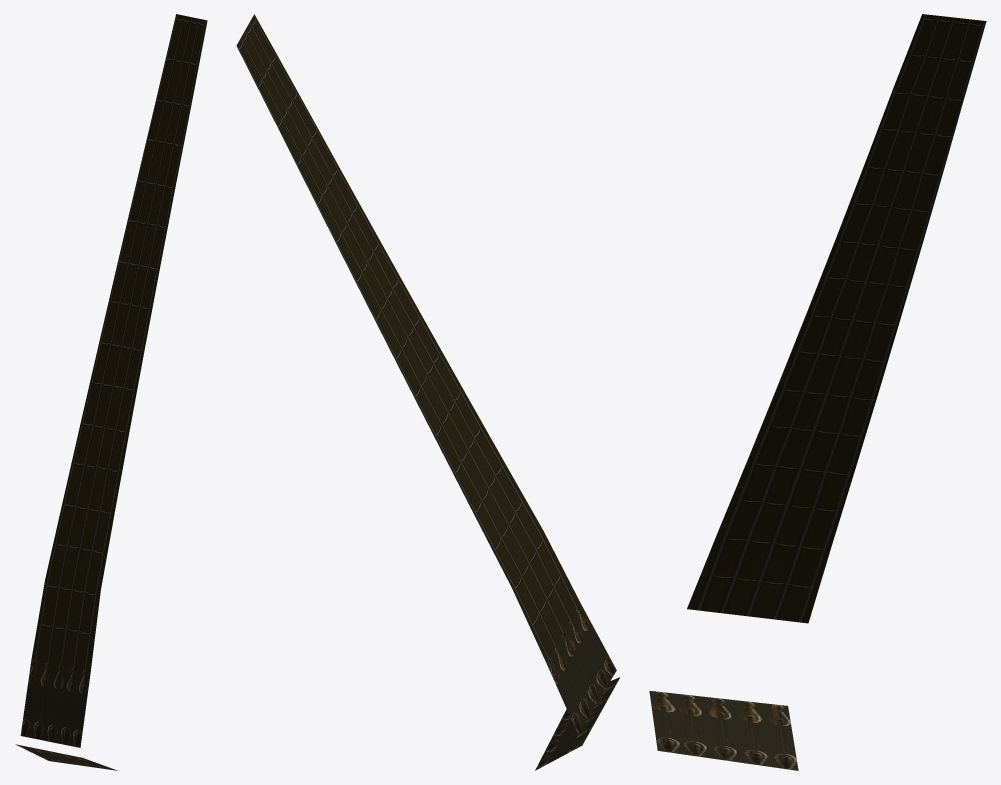
File: merchantL3-rigging_0.fbx
3 views of the same model, side by side, from view 1: azimuth 30°, elevation 25°; view 2: azimuth 150°, elevation 25°; view 3: azimuth 270°, elevation 25° (orthographic). The views are drawn at different scales.
Visible parts, largest first — view 1: rigging_2_A4, pullys_17, riggingmount_pulleys10; view 2: rigging_2_A4, pullys_17, riggingmount_pulleys10; view 3: rigging_2_A4, riggingmount_pulleys10.
Boxes of the visible parts, x1,y1,x2,y2 form: rigging_2_A4: (31, 14, 207, 671); pullys_17: (20, 660, 90, 747); riggingmount_pulleys10: (15, 744, 117, 770); rigging_2_A4: (236, 14, 580, 662); pullys_17: (546, 603, 616, 733); riggingmount_pulleys10: (535, 677, 620, 770); rigging_2_A4: (687, 14, 986, 623); riggingmount_pulleys10: (649, 690, 798, 770).
Bounding box in the file's own units: 3840 × 9944 × 3406.
Materials: 1 (1 with a texture image).
